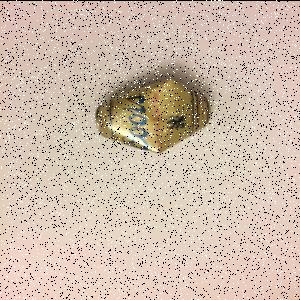Can: (95, 78, 212, 155)
